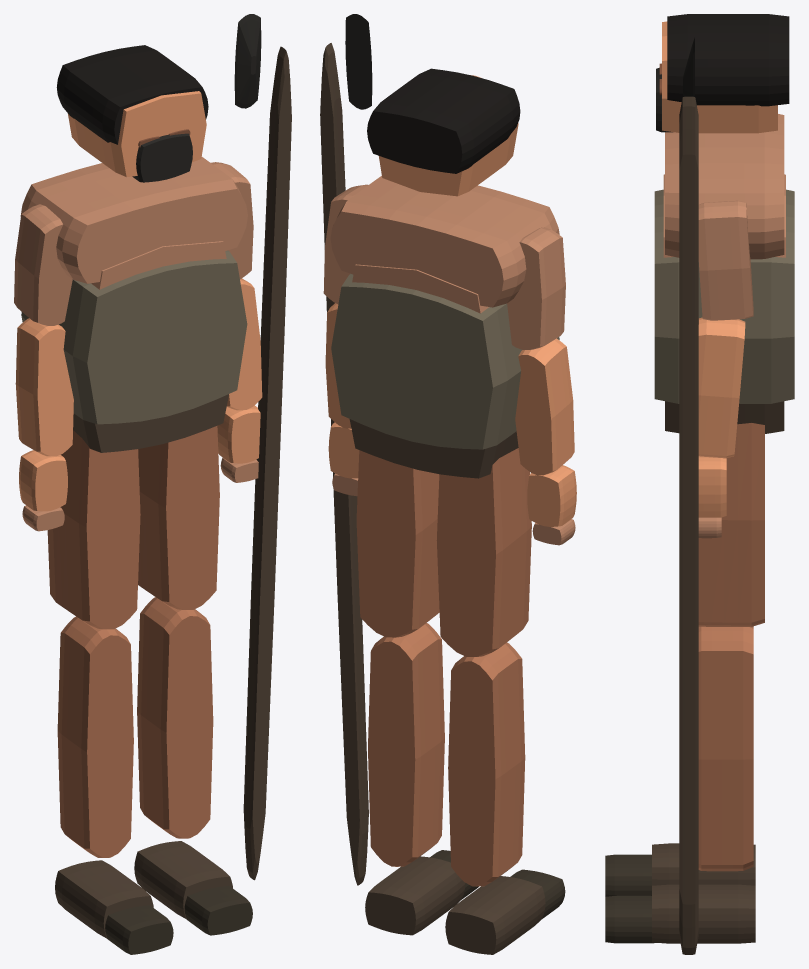
File: terranova_avatar_referenz.obj
The picture shows the model from 3 angles, left to right: view 1: azimuth 30°, elevation 25°; view 2: azimuth 150°, elevation 25°; view 3: azimuth 270°, elevation 25°; orthographic projection. The views are drawn at different scales.
Parts seen in each view (by area): view 1: Shin, Quad, Prehistoric_Male_Torso_Fur_1A, Speerschaft, Brust_/_Clavicle, Prehistoric_Male_Forearm_Wrap_1A, Prehistoric_Male_Boot_1A, Prehistoric_Male_Hair_2A, Arm, Head, Toes, Hand (+5 smaller); view 2: Shin, Quad, Prehistoric_Male_Torso_Fur_1A, Brust_/_Clavicle, Speerschaft, Prehistoric_Male_Hair_2A, Prehistoric_Male_Boot_1A, Prehistoric_Male_Forearm_Wrap_1A, Arm, Prehistoric_Male_Hips_1A, Hand, Head (+4 smaller); view 3: Speerschaft, Shin, Prehistoric_Male_Torso_Fur_1A, Prehistoric_Male_Hair_2A, Quad, Brust_/_Clavicle, Prehistoric_Male_Boot_1A, Arm, Prehistoric_Male_Forearm_Wrap_1A, Toes, Head, Hand (+3 smaller).
Part boxes in pixels (bbox=[...]): Shin: bbox=[57, 597, 213, 857]; Quad: bbox=[47, 426, 219, 629]; Prehistoric_Male_Torso_Fur_1A: bbox=[21, 250, 247, 424]; Speerschaft: bbox=[243, 46, 291, 880]; Brust_/_Clavicle: bbox=[20, 157, 247, 283]; Prehistoric_Male_Forearm_Wrap_1A: bbox=[15, 278, 262, 456]; Prehistoric_Male_Boot_1A: bbox=[55, 841, 232, 938]; Prehistoric_Male_Hair_2A: bbox=[56, 45, 208, 144]; Arm: bbox=[14, 162, 253, 325]; Head: bbox=[68, 91, 206, 177]; Toes: bbox=[105, 886, 252, 954]; Hand: bbox=[19, 405, 260, 511]; Shin: bbox=[368, 623, 525, 886]; Quad: bbox=[356, 448, 531, 656]; Prehistoric_Male_Torso_Fur_1A: bbox=[331, 273, 559, 449]; Brust_/_Clavicle: bbox=[330, 176, 559, 307]; Speerschaft: bbox=[320, 43, 368, 885]; Prehistoric_Male_Hair_2A: bbox=[367, 68, 520, 173]; Prehistoric_Male_Boot_1A: bbox=[365, 856, 545, 954]; Prehistoric_Male_Forearm_Wrap_1A: bbox=[325, 303, 574, 475]; Arm: bbox=[323, 184, 565, 349]; Prehistoric_Male_Hips_1A: bbox=[349, 419, 518, 478]; Hand: bbox=[328, 422, 576, 526]; Head: bbox=[379, 75, 518, 196]; Speerschaft: bbox=[679, 96, 698, 954]; Shin: bbox=[698, 626, 753, 871]; Prehistoric_Male_Torso_Fur_1A: bbox=[654, 189, 794, 403]; Prehistoric_Male_Hair_2A: bbox=[667, 14, 789, 106]; Quad: bbox=[698, 423, 764, 626]; Brust_/_Clavicle: bbox=[665, 114, 784, 259]; Prehistoric_Male_Boot_1A: bbox=[652, 843, 755, 943]; Arm: bbox=[698, 200, 753, 320]; Prehistoric_Male_Forearm_Wrap_1A: bbox=[698, 317, 745, 458]; Toes: bbox=[605, 854, 656, 943]; Head: bbox=[662, 21, 777, 133]; Hand: bbox=[698, 456, 726, 517].
Bounding box in the file's own units: 0.5203 × 1.72 × 0.318.
